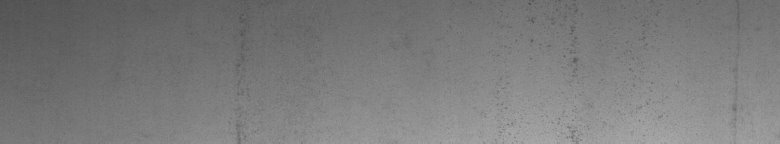ib: (497, 8, 668, 136)
